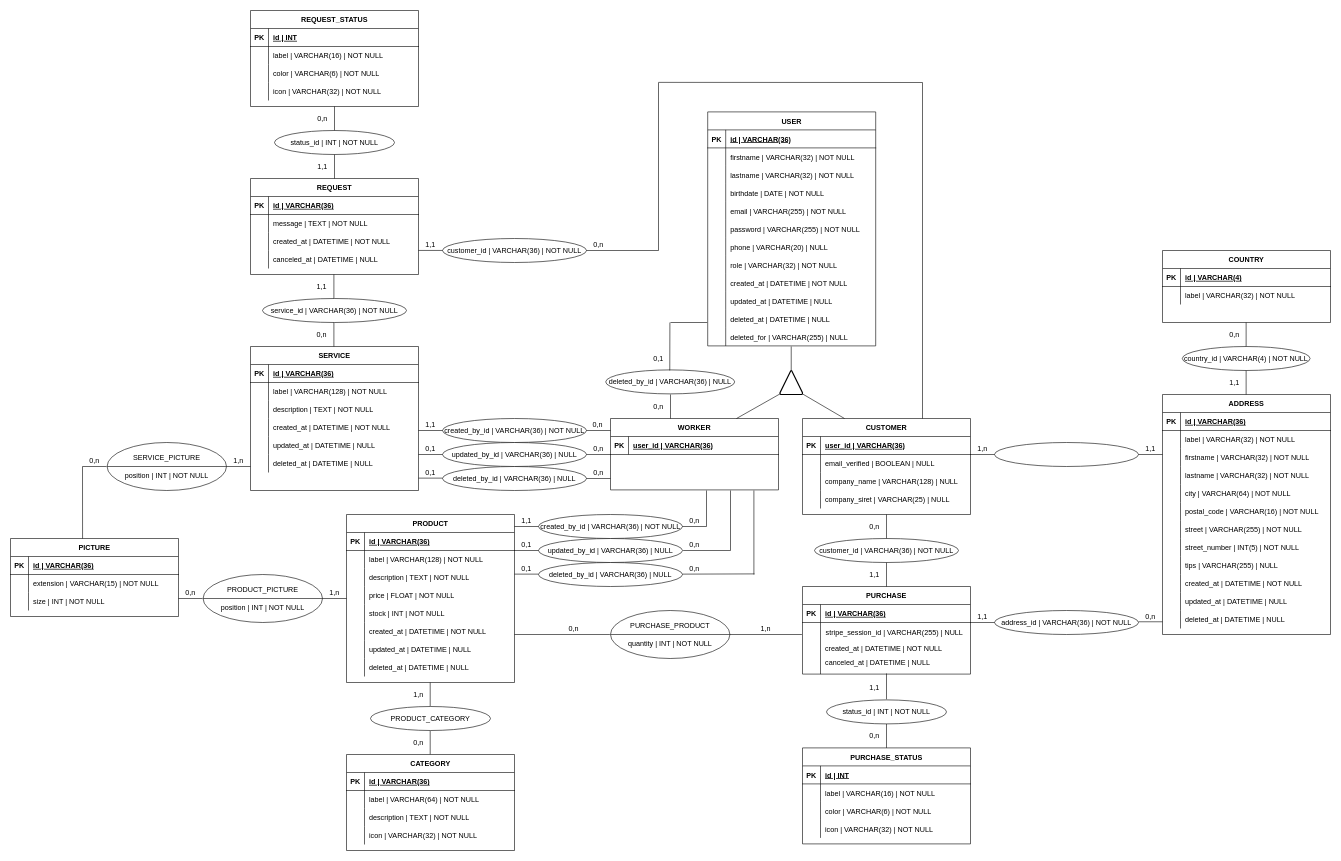
Image size: 1341x861. Some labels were removed from this diagram. Each missing label, with the centre of its shape:
created_by_id | VARCHAR(50) | NOT NULL: (x=1066, y=454)
OR: (x=791, y=382)
